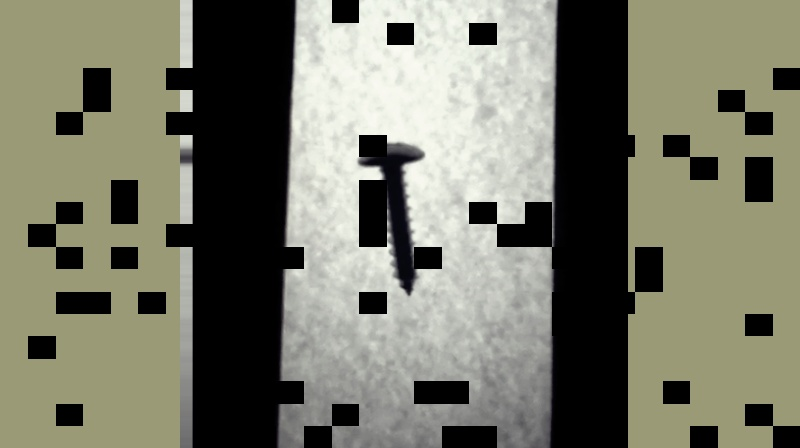S003: (356, 138, 429, 300)
